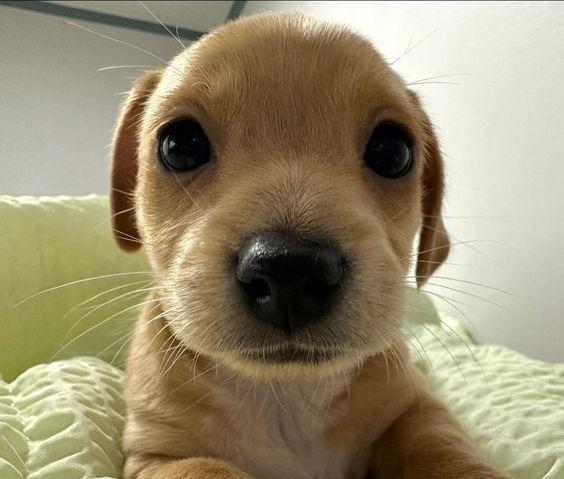puppy-dog: (107, 11, 511, 479)
